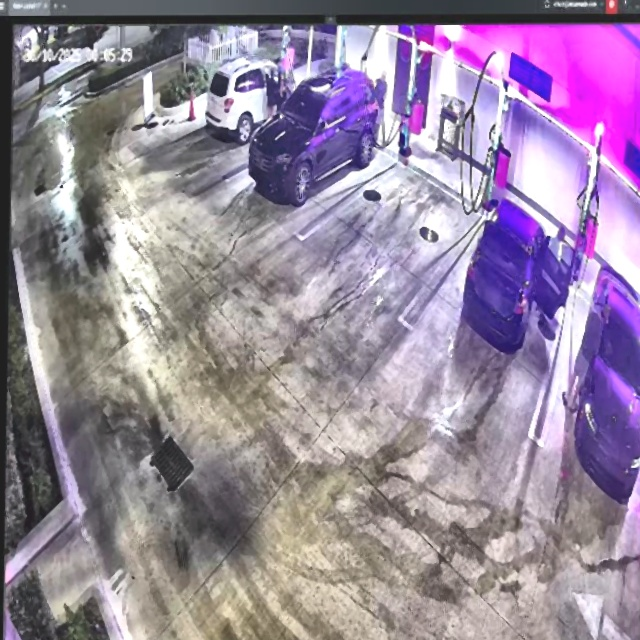Car: (249, 69, 382, 203), (462, 194, 574, 351)
